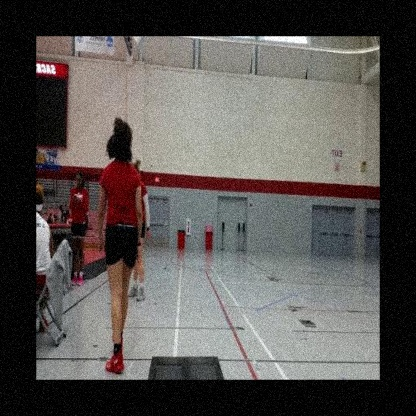lateral_flexion_left: (93, 114, 143, 375)
stance_width_narrow: (96, 160, 144, 374)
